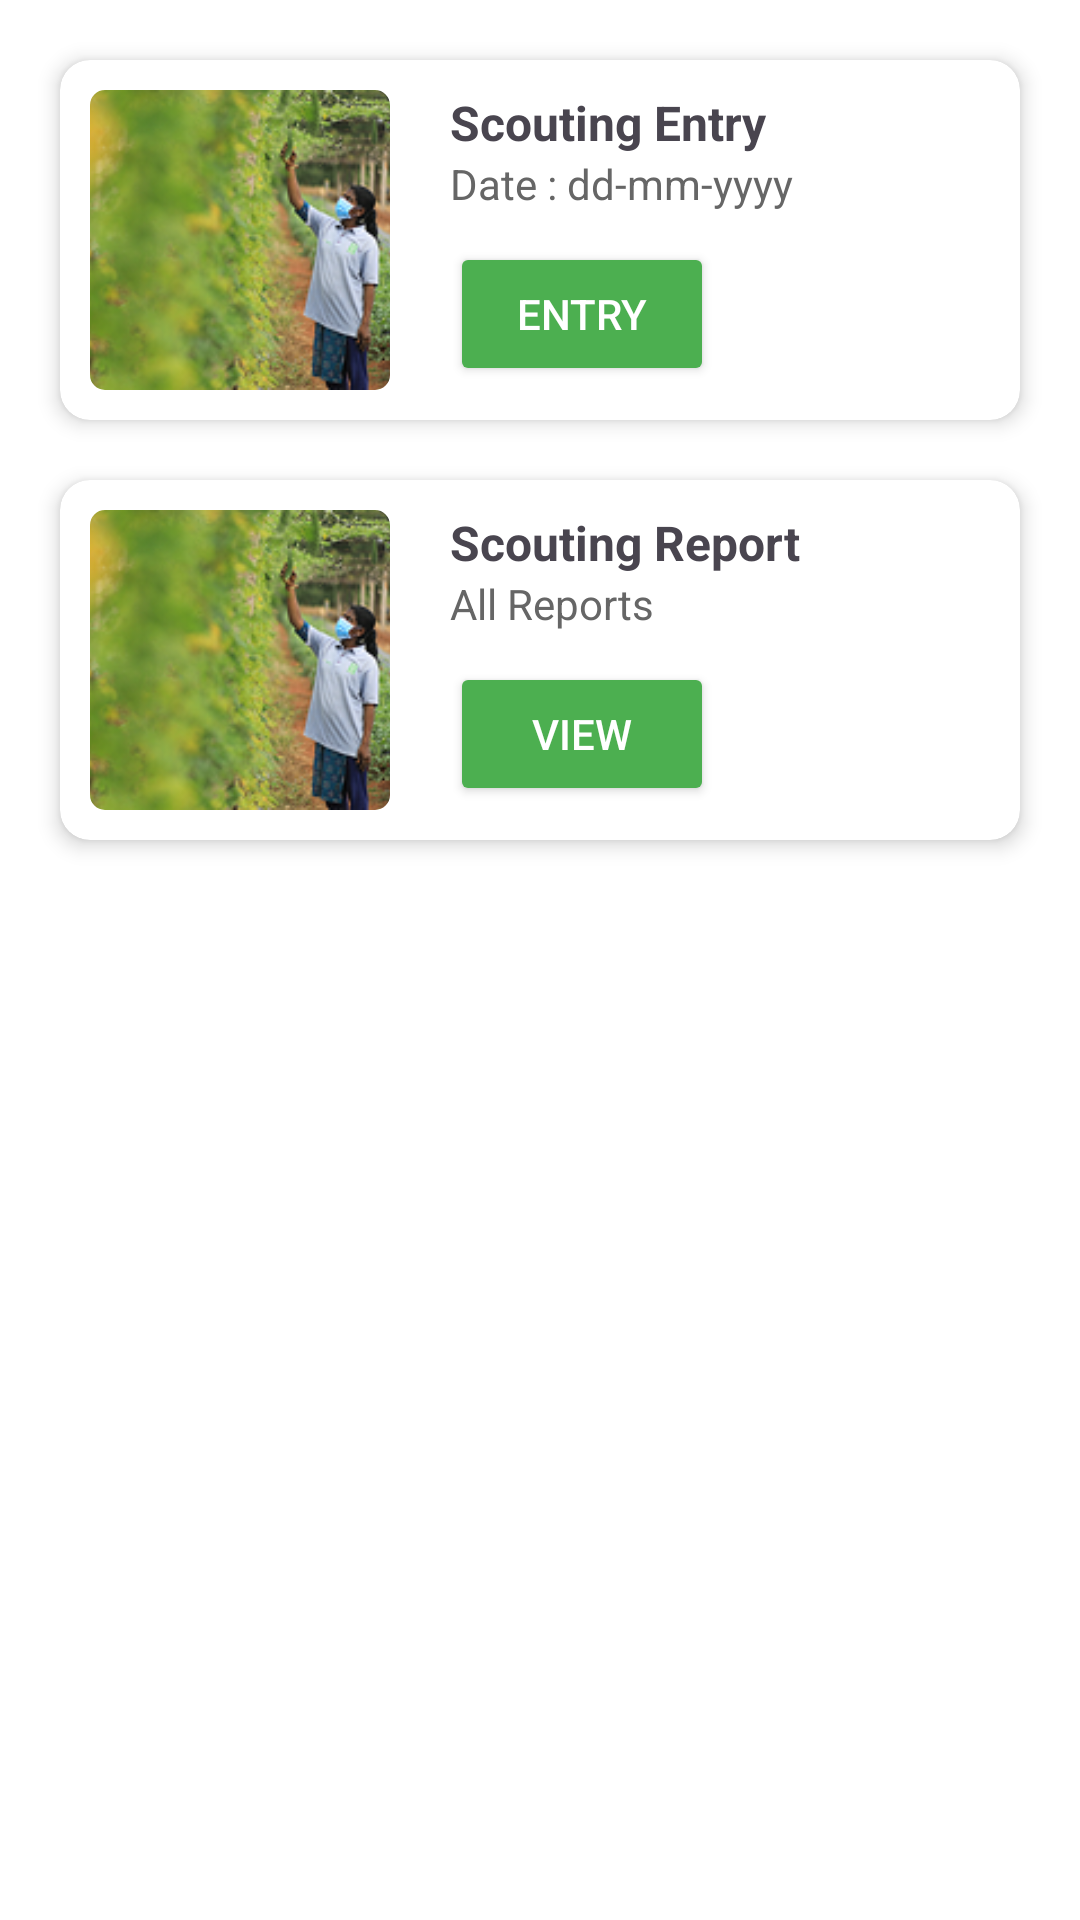

Point at icon controls on the screen. Image size 1080*1920, points as (x=x, y=y).
scouting girl: (x=240, y=240), (x=240, y=660)
